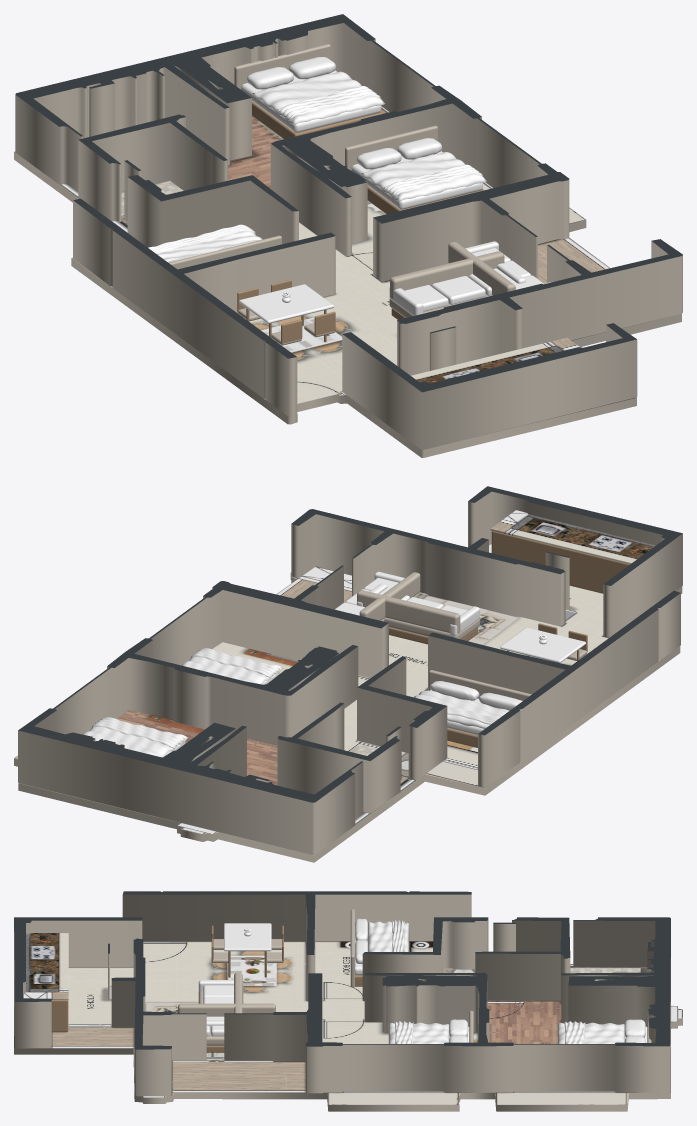
3 views of the same model, one above another, from view 1: azimuth 30°, elevation 25°; view 2: azimuth 150°, elevation 25°; view 3: azimuth 270°, elevation 25° (orthographic). The views are drawn at different scales.
Visible parts, largest first — view 1: Partition walls, Apartment floor, Draped bed linen, Draped bed linen.002, Marble dining top, Stone worktop, Sofa back, Piped mattress, Draped bed linen.001, Upholstered headboard, Upholstered headboard.001, Piped mattress.001 (+12 smaller); view 2: Partition walls, Apartment floor, Stone worktop, Kitchen cabinets, Sofa back, Marble dining top, Draped bed linen, Draped bed linen.004, Draped bed linen.002, Sofa back.001, Draped bed linen.001, Upholstered headboard.002 (+3 smaller); view 3: Partition walls, Apartment floor, Stone worktop, Marble dining top, Sofa back.001, Draped bed linen, Draped bed linen.004, Draped bed linen.002, Kitchen cabinets, Draped bed linen.001, Draped bed linen.003, Draped bed linen.005 (+4 smaller).
Boxes of the visible parts, bbox=[...] form: Partition walls: bbox=[15, 14, 682, 450]; Apartment floor: bbox=[14, 106, 681, 457]; Draped bed linen: bbox=[252, 71, 384, 124]; Draped bed linen.002: bbox=[361, 152, 486, 201]; Marble dining top: bbox=[239, 284, 333, 323]; Stone worktop: bbox=[411, 337, 579, 383]; Sofa back: bbox=[390, 251, 504, 299]; Piped mattress: bbox=[241, 70, 381, 132]; Draped bed linen.001: bbox=[276, 86, 380, 120]; Upholstered headboard: bbox=[234, 44, 330, 89]; Upholstered headboard.001: bbox=[345, 125, 437, 170]; Piped mattress.001: bbox=[351, 151, 482, 209]; Partition walls: bbox=[18, 486, 682, 854]; Apartment floor: bbox=[14, 544, 682, 862]; Stone worktop: bbox=[490, 510, 655, 564]; Kitchen cabinets: bbox=[491, 531, 629, 593]; Sofa back: bbox=[357, 590, 460, 633]; Marble dining top: bbox=[500, 627, 586, 662]; Draped bed linen: bbox=[83, 718, 188, 757]; Draped bed linen.004: bbox=[414, 690, 509, 728]; Draped bed linen.002: bbox=[181, 649, 283, 684]; Sofa back.001: bbox=[359, 572, 420, 620]; Draped bed linen.001: bbox=[91, 717, 184, 748]; Upholstered headboard.002: bbox=[429, 670, 531, 700]; Partition walls: bbox=[14, 891, 670, 1096]; Apartment floor: bbox=[14, 941, 682, 1111]; Stone worktop: bbox=[23, 933, 68, 999]; Marble dining top: bbox=[224, 923, 271, 951]; Sofa back.001: bbox=[178, 1003, 275, 1016]; Draped bed linen: bbox=[557, 1022, 624, 1043]; Draped bed linen.004: bbox=[367, 921, 409, 951]; Draped bed linen.002: bbox=[388, 1022, 449, 1043]; Kitchen cabinets: bbox=[51, 1000, 68, 1032]; Draped bed linen.001: bbox=[564, 1021, 585, 1043]; Draped bed linen.003: bbox=[394, 1021, 413, 1043]; Draped bed linen.005: bbox=[392, 920, 404, 951].
Size of the model in its own units: 8.77 by 1.3 by 14.85.
9 materials, 1 textured.
